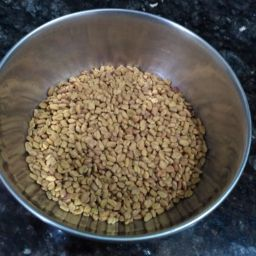Fenugeek (seeds): (20, 128, 202, 211), (53, 74, 201, 147), (151, 69, 213, 216), (106, 62, 162, 223), (59, 72, 115, 220), (25, 100, 79, 203)
